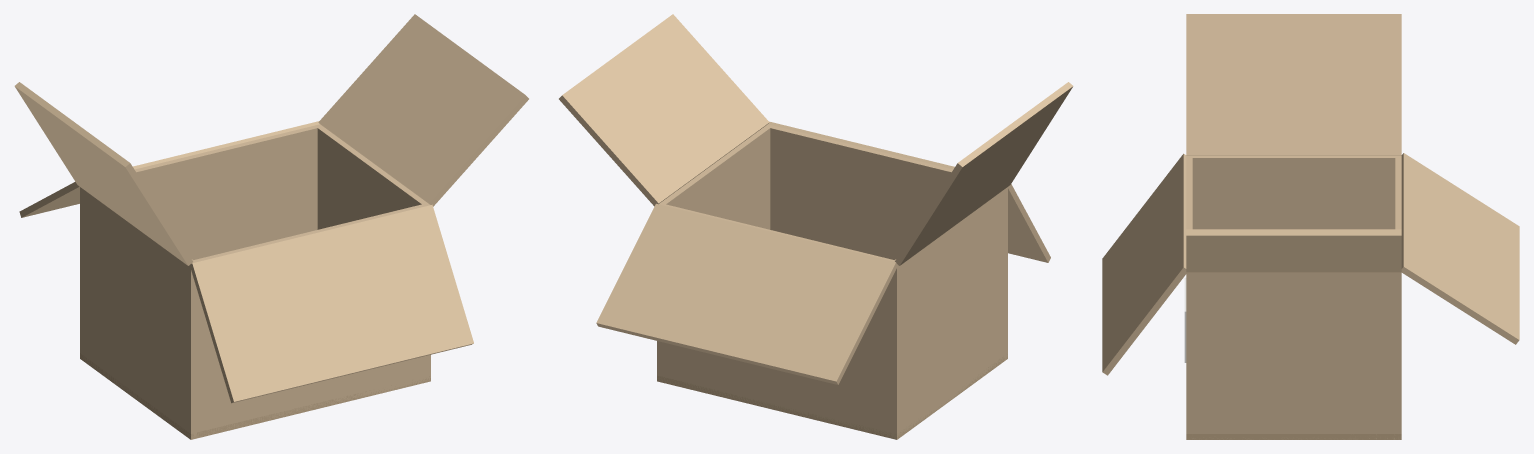
Rendered from box_open.glb.
3 renders of one model, left to right at view 1: azimuth 30°, elevation 25°; view 2: azimuth 150°, elevation 25°; view 3: azimuth 270°, elevation 25°, orthographic. The views are drawn at different scales.
Parts seen in each view (by area): view 1: box_open; view 2: box_open; view 3: box_open.
Boxes of the visible parts, <box> form: box_open: <box>14,14,528,439</box>; box_open: <box>559,14,1073,439</box>; box_open: <box>1102,14,1519,439</box>.
Bounding box in the file's own units: 0.8414 × 0.5803 × 0.7739.
